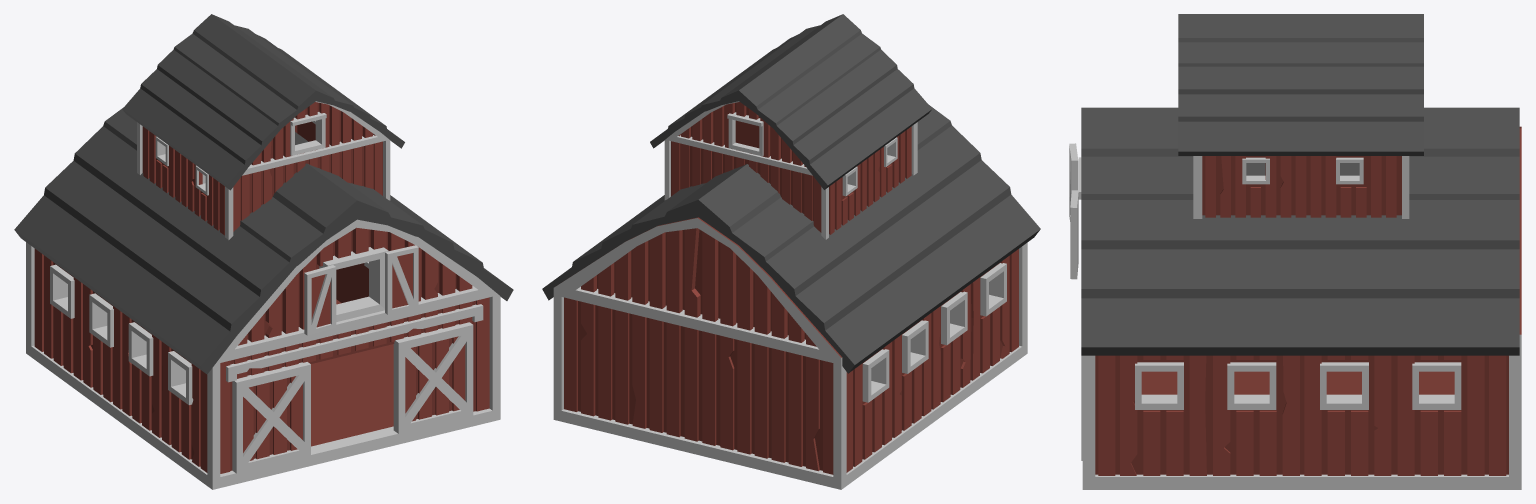
The model's file is farm_barn.glb.
The picture shows the model from 3 angles, left to right: view 1: azimuth 30°, elevation 25°; view 2: azimuth 150°, elevation 25°; view 3: azimuth 270°, elevation 25°; orthographic projection. The views are drawn at different scales.
Parts seen in each view (by area): view 1: BigBarn_Cube.034; view 2: BigBarn_Cube.034; view 3: BigBarn_Cube.034.
Part boxes in pixels (<box>): BigBarn_Cube.034: <box>14,14,513,489</box>; BigBarn_Cube.034: <box>542,14,1040,489</box>; BigBarn_Cube.034: <box>1069,14,1521,489</box>.
Size of the model in its own units: 7.73 by 7.89 by 8.22.
